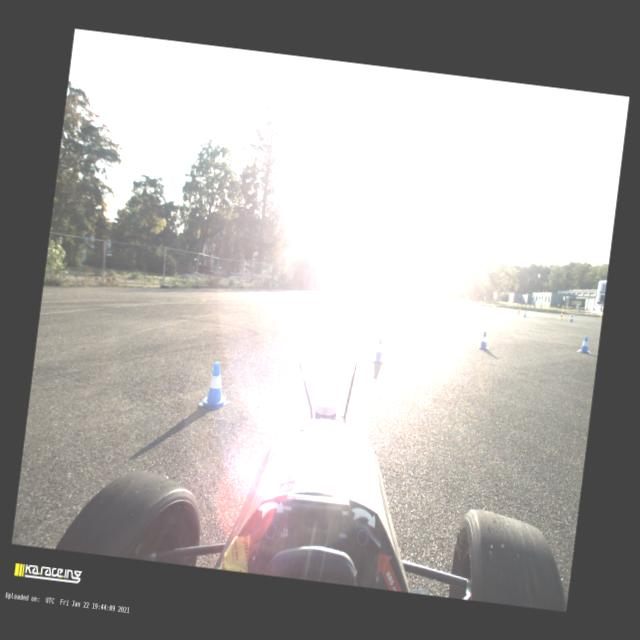blue_cone: (195, 357, 236, 412), (370, 336, 388, 366), (576, 334, 594, 356), (478, 328, 492, 352), (568, 313, 574, 323), (522, 310, 528, 318), (469, 306, 474, 312), (512, 306, 514, 310), (534, 308, 536, 312), (574, 312, 576, 316), (494, 304, 496, 308)
yellow_cone: (558, 312, 564, 320), (516, 308, 521, 315), (598, 314, 602, 319), (544, 309, 548, 314), (493, 304, 495, 308)
